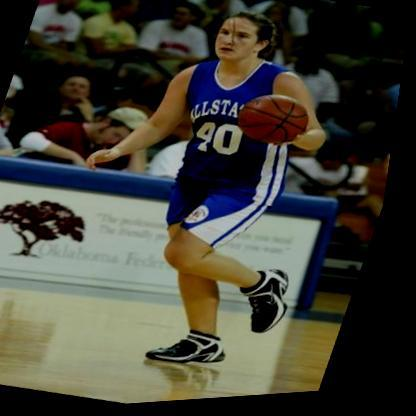basketball: (233, 88, 323, 158)
